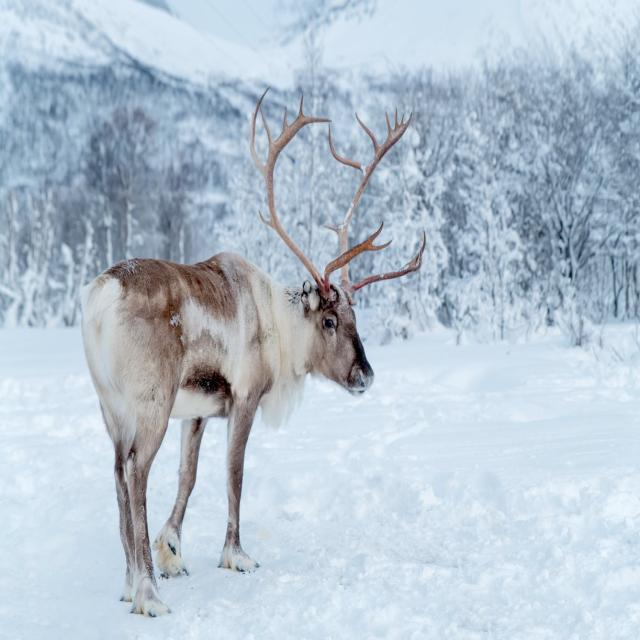Reindeer: (65, 81, 426, 622)
